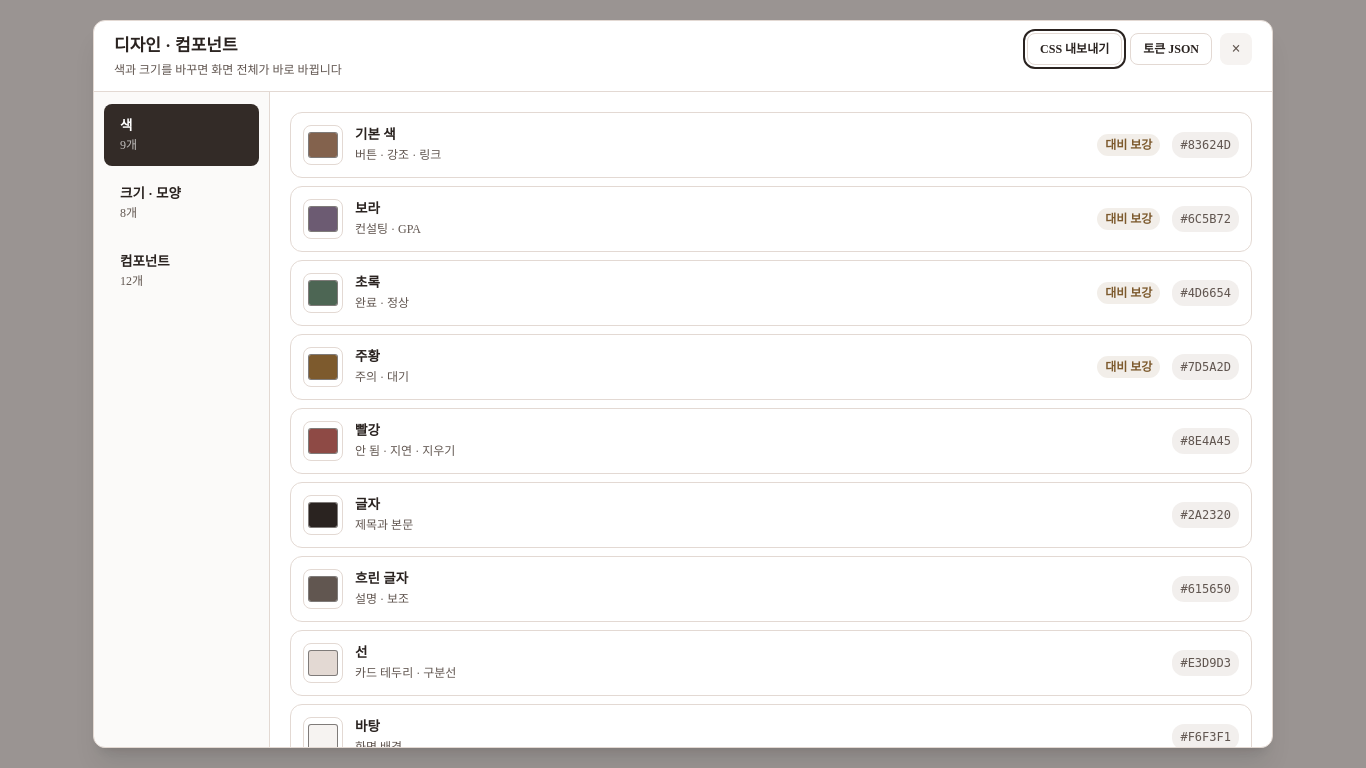
Test: 컴포넌트 갤러리는 열두 장이고 「N회 씀」은 세어 둔 값을 그린다
Click the button "컴포넌트 12개" at (182, 271), box [104,240,259,302]
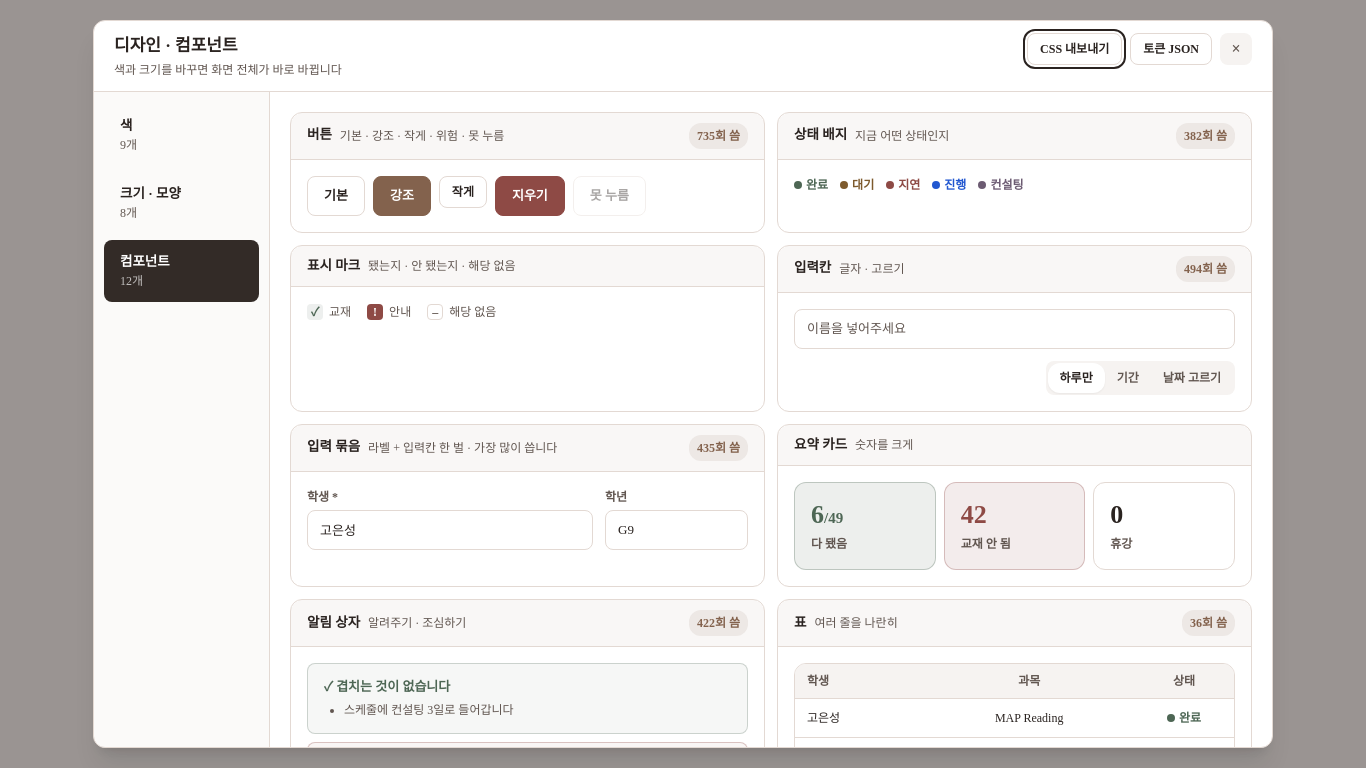
expect the heading "상태 배지" is shown: met, box [794,125,847,146]
expect the heading "표시 마크" is shown: met, box [307,256,360,276]
expect the heading "입력칸" is shown: met, box [794,258,831,279]
